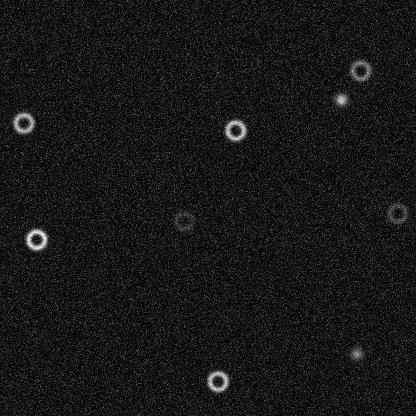Ring: (24, 227, 48, 251), (223, 118, 247, 142), (11, 110, 35, 134), (205, 369, 229, 393), (348, 58, 372, 82), (172, 208, 196, 232), (385, 201, 409, 225)
Spot: (348, 345, 364, 361), (332, 91, 348, 107)
